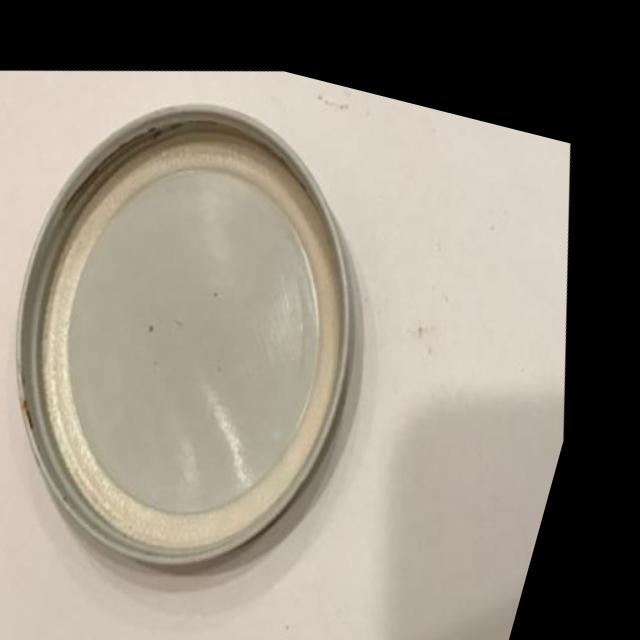metal: (0, 4, 502, 640)
